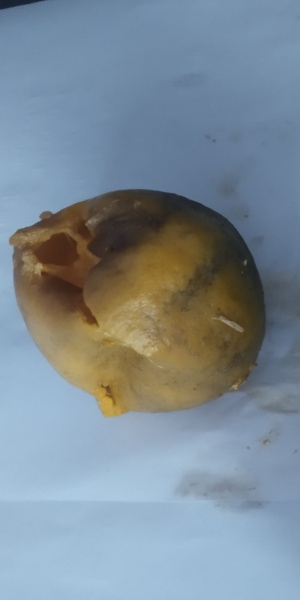BAD: (16, 186, 260, 414)
